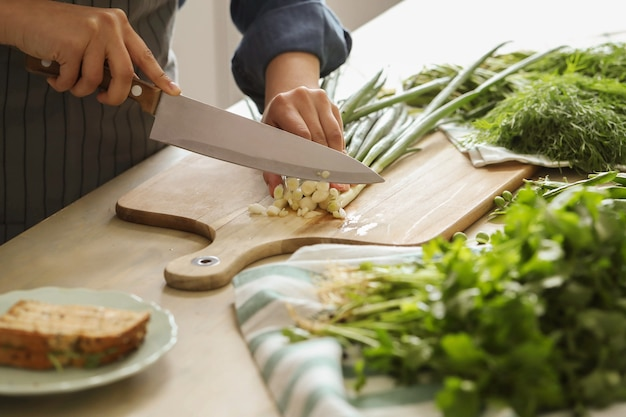knife: (128, 78, 386, 182)
